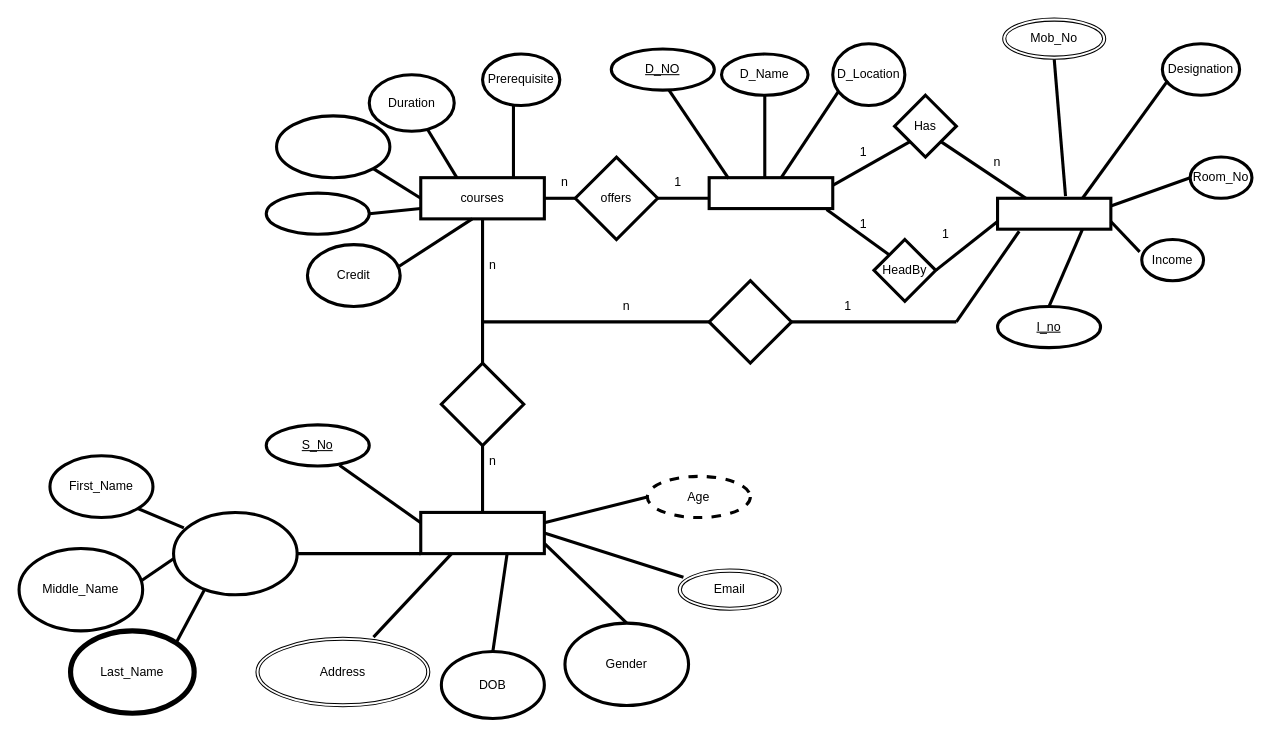
The diagram is 1271 pixels wide and 737 high, and some of its shapes have lost their labels. Here are the shapes that lost their labels. From the top down, the box of each, then its label:
(274, 114, 391, 179): C_Name
(264, 191, 370, 235): C_Code
(707, 176, 834, 210): Department
(995, 196, 1112, 230): Instructor
(707, 279, 793, 364): Is Taught By
(439, 361, 525, 447): Enrolled By
(419, 510, 545, 555): Student
(171, 510, 298, 596): S_Name
